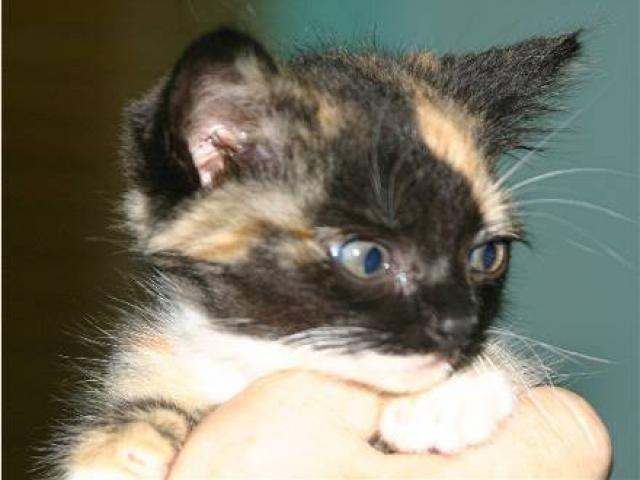cat: (33, 9, 615, 475)
